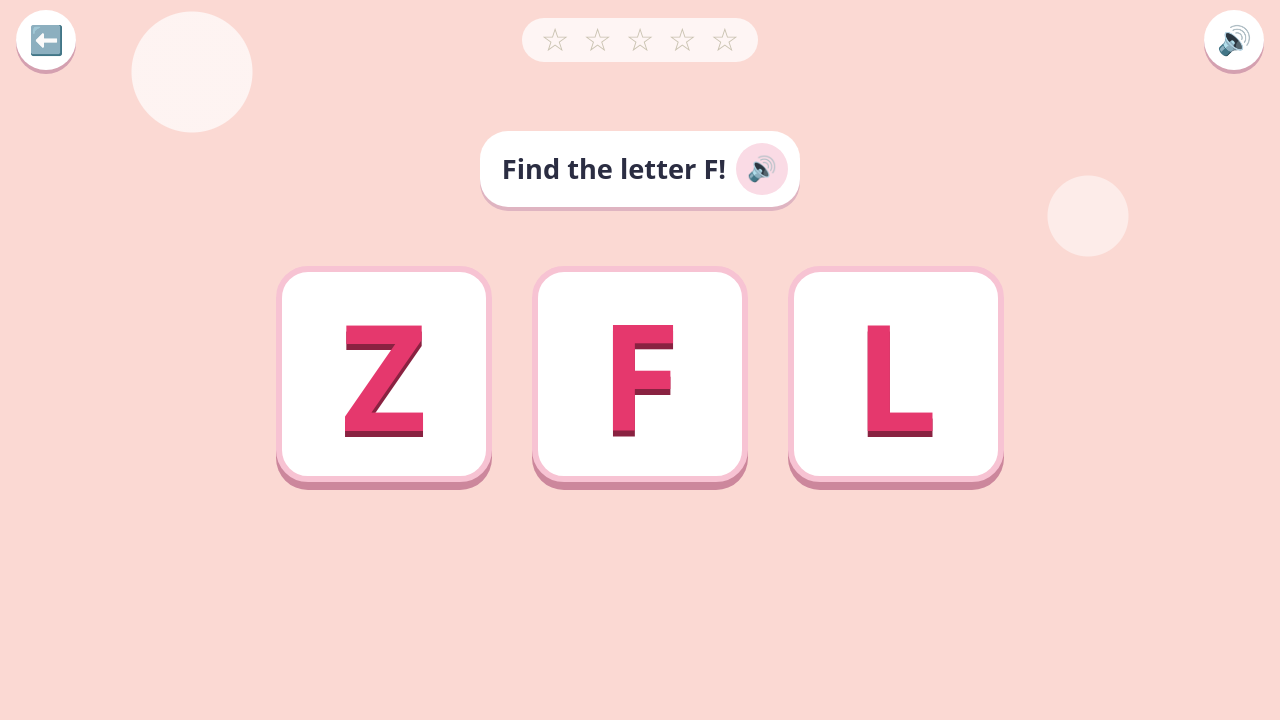
Test: FindGame › gently corrects a wrong pick and lets the child try again
Click the button "Z": (384, 374) [276, 266, 492, 482]
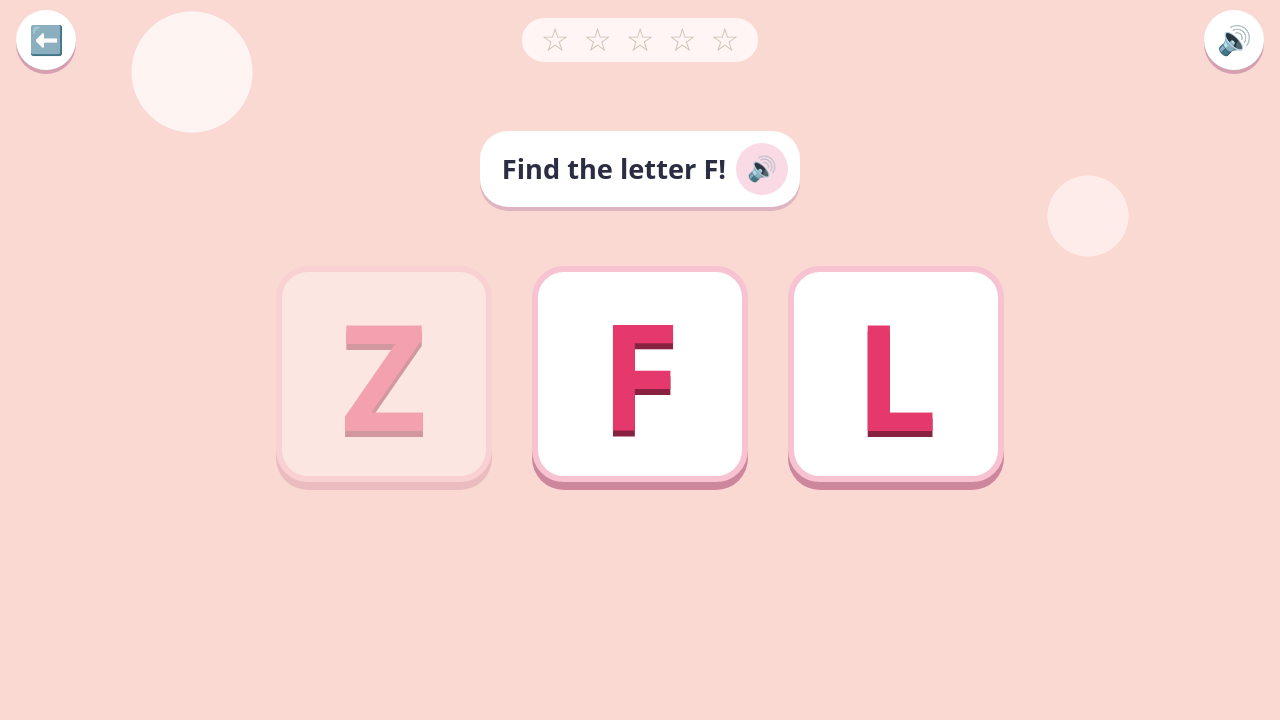
expect the picture named "0 of 5 stars" is shown: met, box [522, 18, 758, 62]
expect the button "Z" is disabled: met, box [276, 266, 492, 482]
